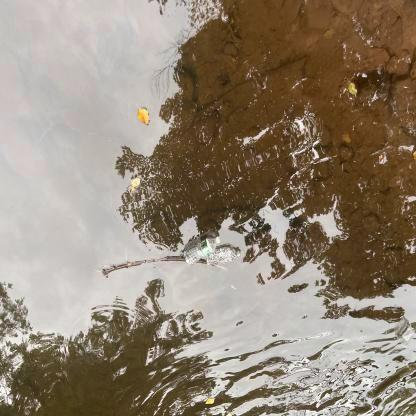Plastic: (180, 235, 242, 268)
